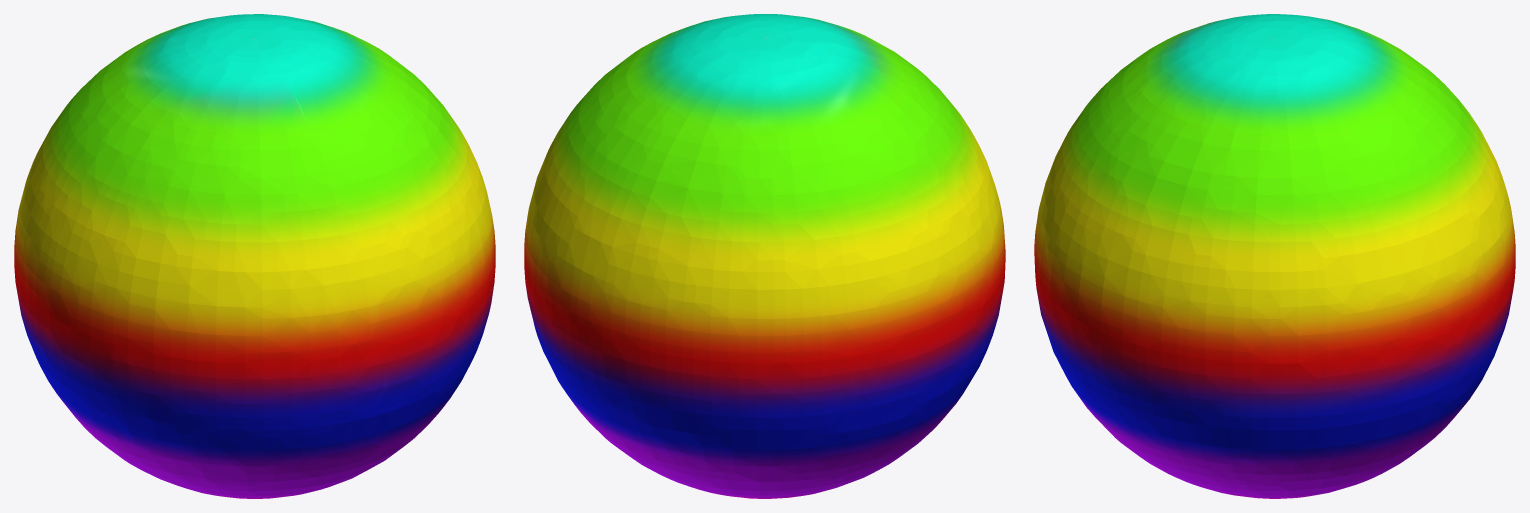
The model's file is skybox_normalsout.obj.
3 views of the same model, side by side, from view 1: azimuth 30°, elevation 25°; view 2: azimuth 150°, elevation 25°; view 3: azimuth 270°, elevation 25° (orthographic).
Visible parts, largest first — view 1: Sphere; view 2: Sphere; view 3: Sphere.
Boxes of the visible parts, x1,y1,x2,y2 form: Sphere: (14,14,495,498); Sphere: (524,14,1005,498); Sphere: (1034,14,1515,498).
Size of the model in its own units: 334 by 333 by 334.
1 material, 1 textured.
